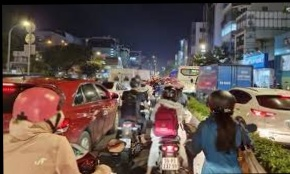Bien-so: (150, 151, 167, 165), (111, 130, 123, 141), (274, 126, 286, 134)
